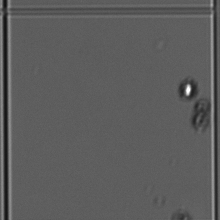Dead Cell: (191, 111, 210, 132), (194, 98, 212, 113)
Living Cell: (178, 76, 197, 100)
